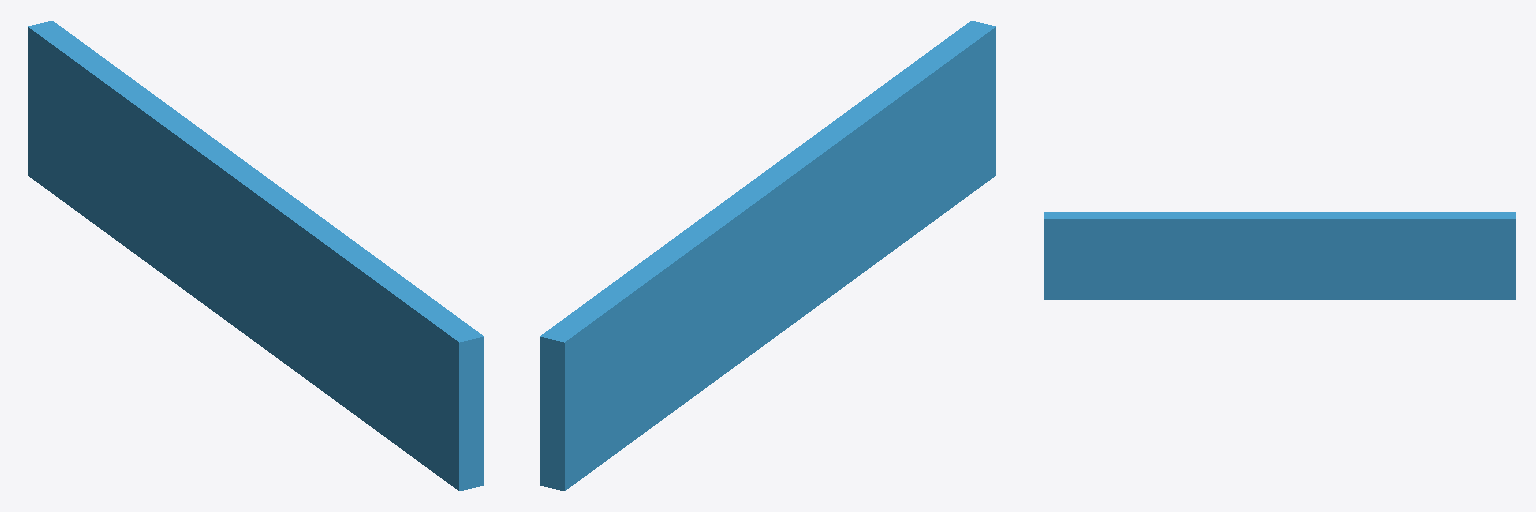
URDF robot description (box_39):
<?xml version="1.0" encoding="utf-8"?>    
    
    <robot name="box_39">
        <link name="box_39">    
            <fem>
                <origin rpy="0.0 0.0 0.0" xyz="0 0 0" />
                <density value="100" />
                <youngs value="9636"/>
                <poissons value="0.3" />
                <damping value="0.0" />
                <attachDistance value="0.01" />
                <tetmesh filename="[local-path]/sim_data/Custom/Custom_mesh/multi_boxes_10kPa/box_39.tet" />
                <scale value="0.5"/>
            </fem>
        </link>

        <link name="fix_frame">
            <visual>
                <origin xyz="-10.1 0.0 0.0"/>              
                <geometry>
                    <box size="0.005 0.15 0.02855803342392611"/>
                </geometry>
            </visual>
            <collision>
                <origin xyz="-0.1 0.0 0.0"/>              
                <geometry>
                    <box size="0.005 0.15 0.02855803342392611"/>
                </geometry>
            </collision>
            <inertial>
                <mass value="500000"/>
                <inertia ixx="0.05" ixy="0.0" ixz="0.0" iyy="0.05" iyz="0.0" izz="0.05"/>
            </inertial>
        </link>
        
        <joint name = "attach" type = "fixed">
            <origin xyz = "0.0 0.0 0.0" rpy = "0 0 0"/>
            <parent link ="box_39"/>
            <child link = "fix_frame"/>
        </joint>  




    </robot>
    

--- Render facts (derived) ---
3 views of the same robot in one strip: view 1: azimuth 30°, elevation 25°; view 2: azimuth 150°, elevation 25°; view 3: azimuth 270°, elevation 25° (orthographic).
Model box_39 with 2 links and 1 joints (1 fixed), rooted at box_39, posed every joint at zero.
Visible links, largest first — view 1: fix_frame; view 2: fix_frame; view 3: fix_frame.
Link boxes in pixels (x1=…): fix_frame: x1=28, y1=21, x2=483, y2=490; fix_frame: x1=540, y1=21, x2=995, y2=490; fix_frame: x1=1044, y1=212, x2=1515, y2=299.
Bounding box of the posed robot: 0.005 × 0.15 × 0.0286 m (x, y, z).
Geometry: primitives only (box / cylinder / sphere), no mesh files.